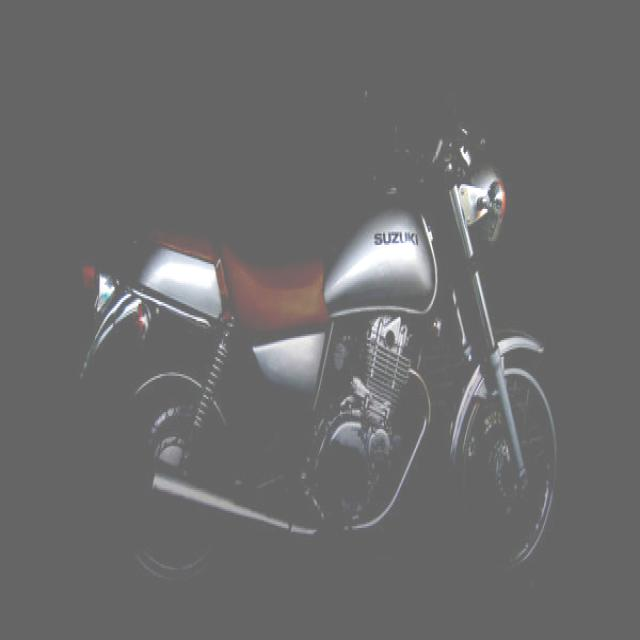Motorbike: (72, 124, 555, 640)
